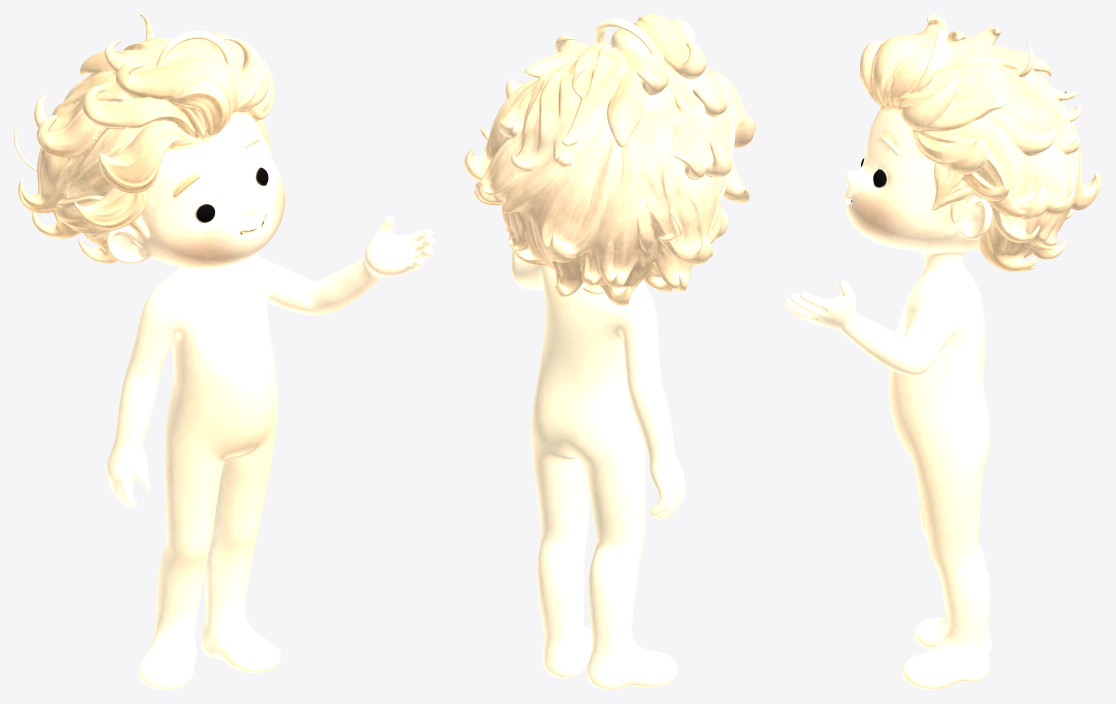
Rendered from rita-wanderer.glb.
3 views of the same model, side by side, from view 1: azimuth 30°, elevation 25°; view 2: azimuth 150°, elevation 25°; view 3: azimuth 270°, elevation 25° (orthographic). The views are drawn at different scales.
Visible parts, largest first — view 1: Mesh_0; view 2: Mesh_0; view 3: Mesh_0.
Part boxes in pixels (x1,y1,x2,y2): Mesh_0: (14, 14, 435, 689); Mesh_0: (464, 14, 755, 689); Mesh_0: (784, 14, 1101, 689).
Size of the model in its own units: 0.9277 by 1.9 by 0.879.
1 material, 1 textured.
